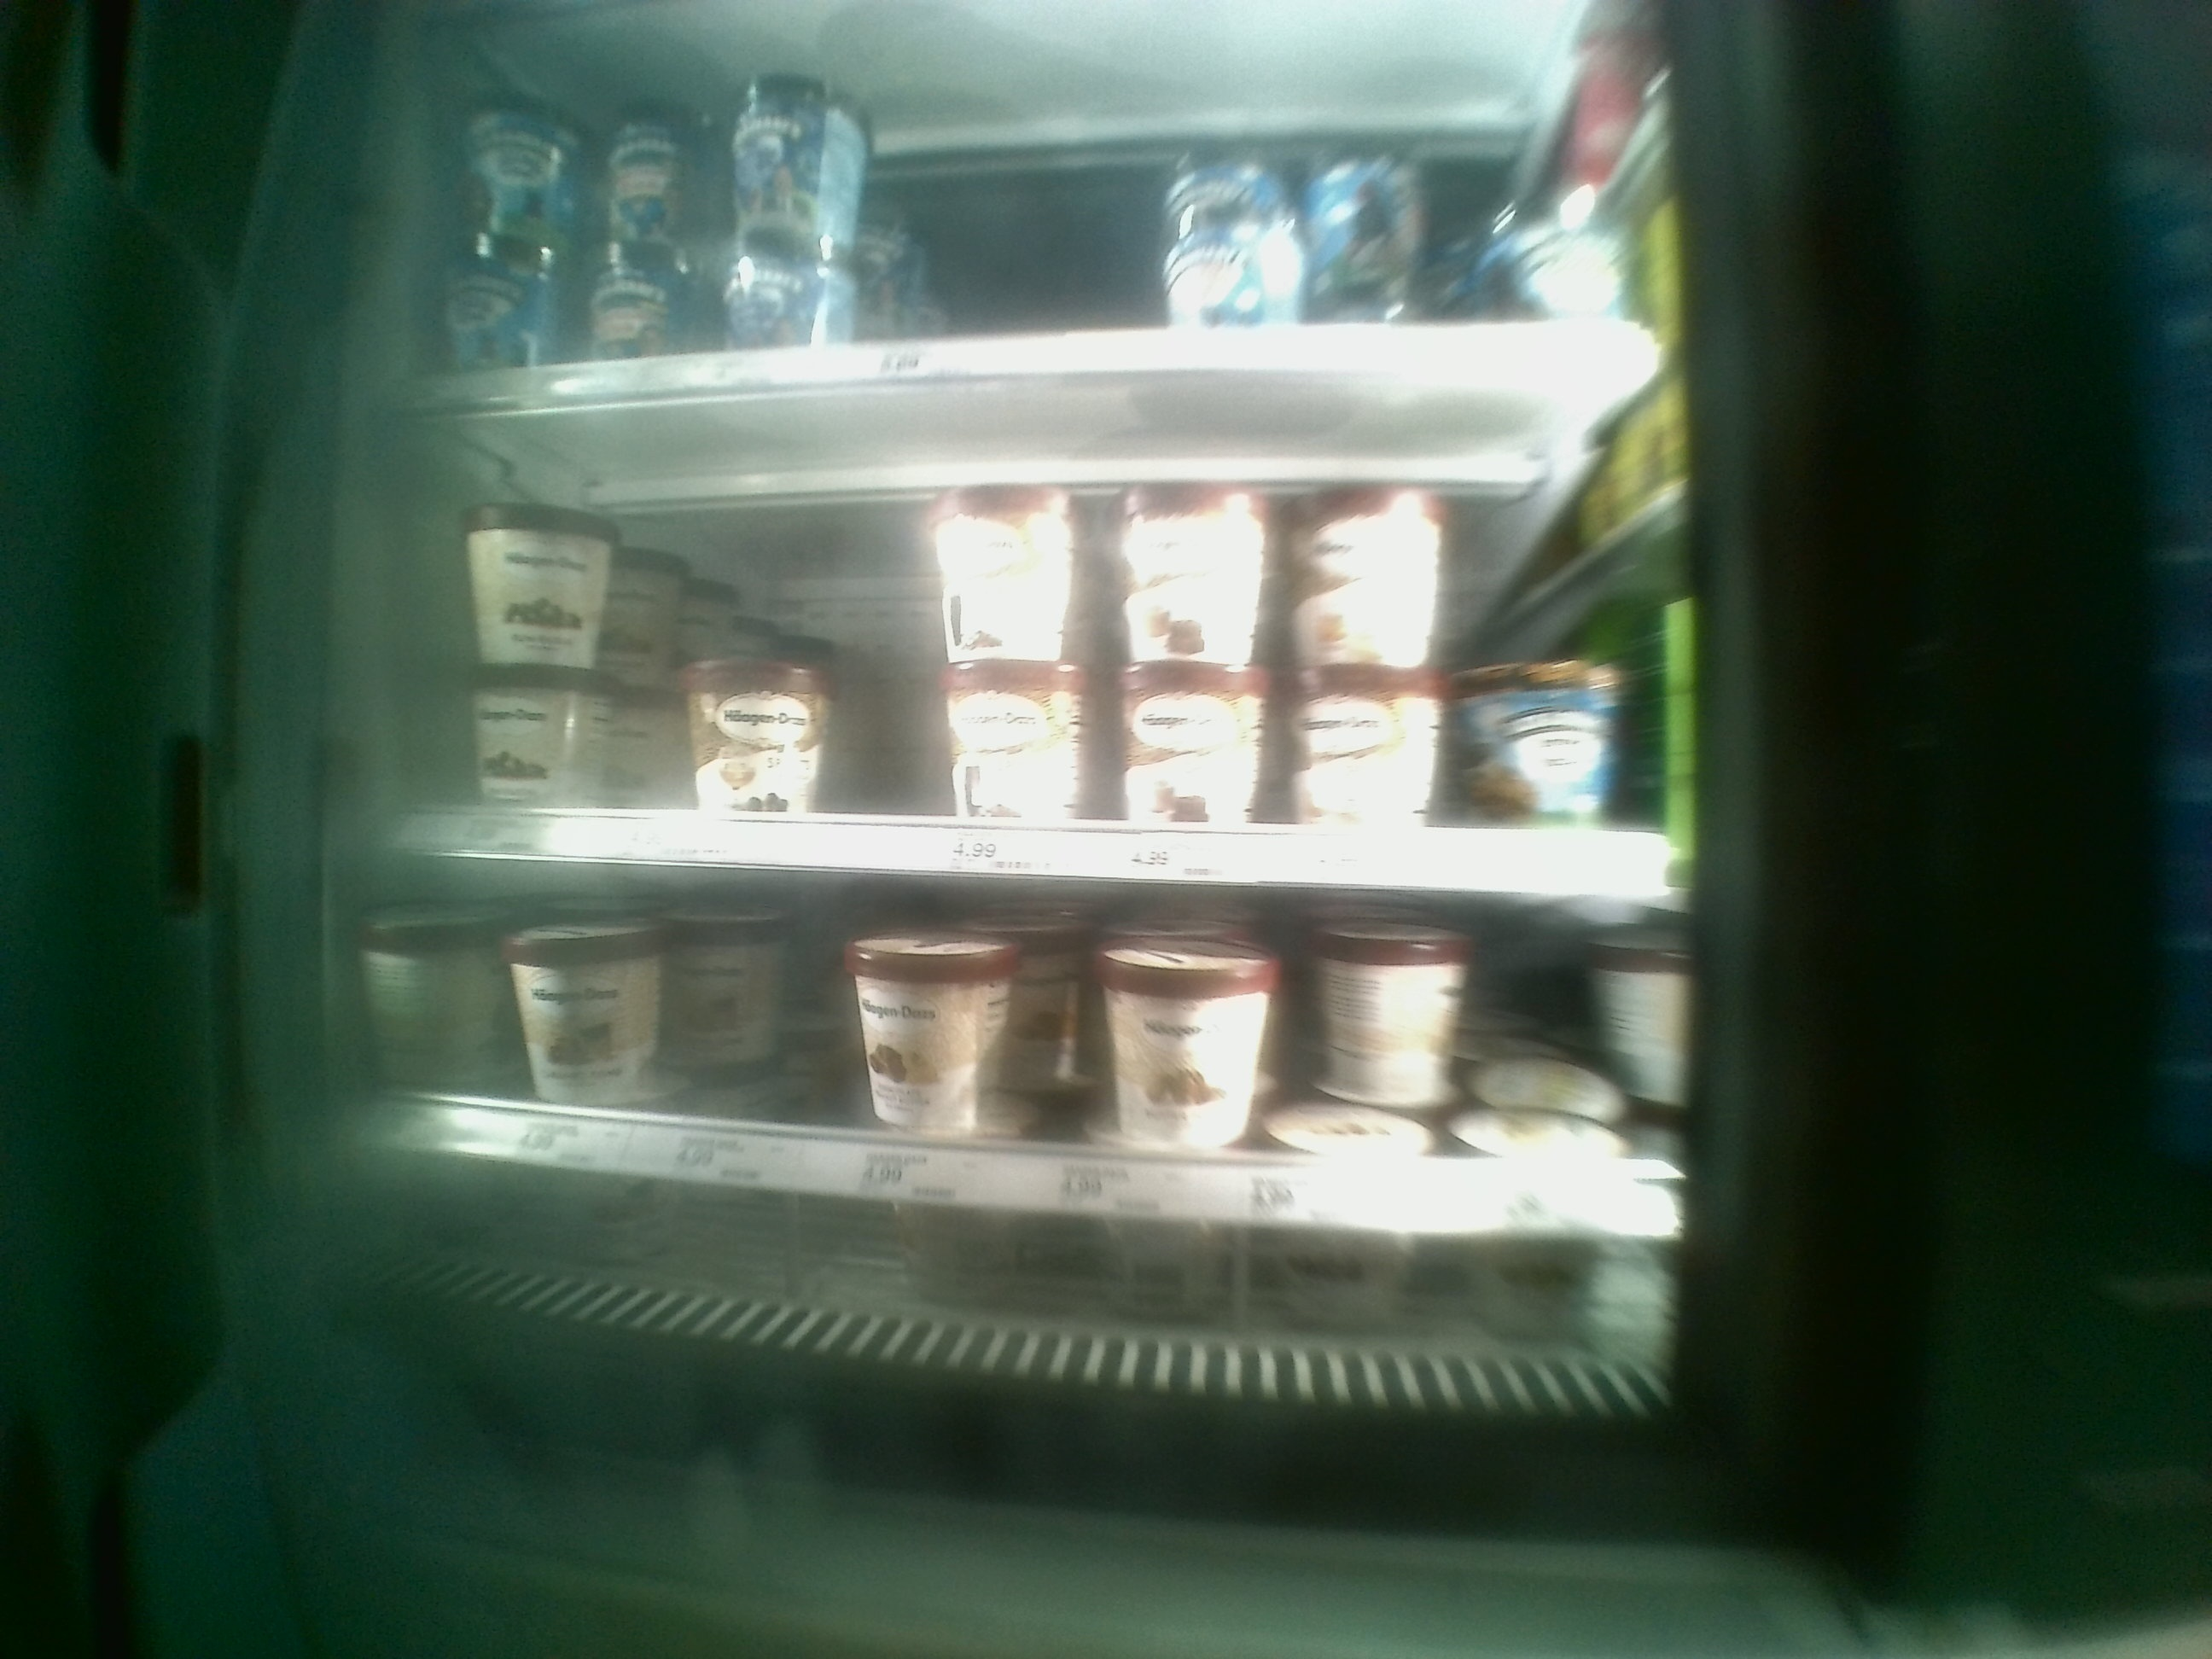shelf: (388, 396, 1681, 887), (388, 871, 1684, 1349)
